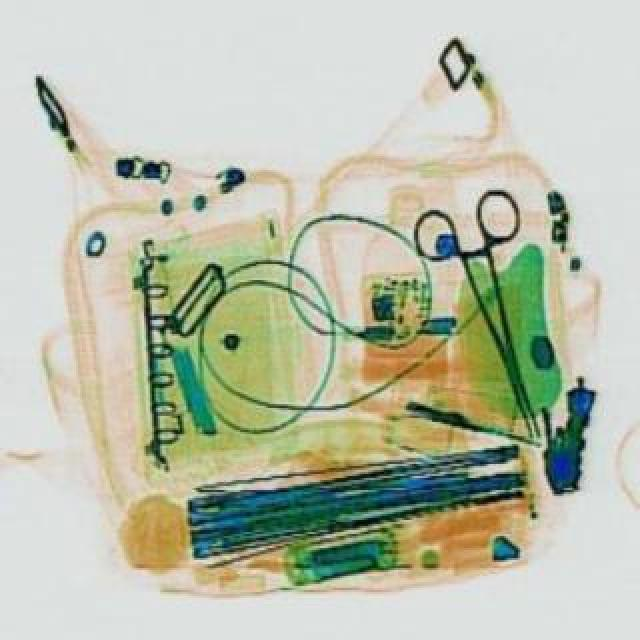pliers: (402, 180, 588, 448)
